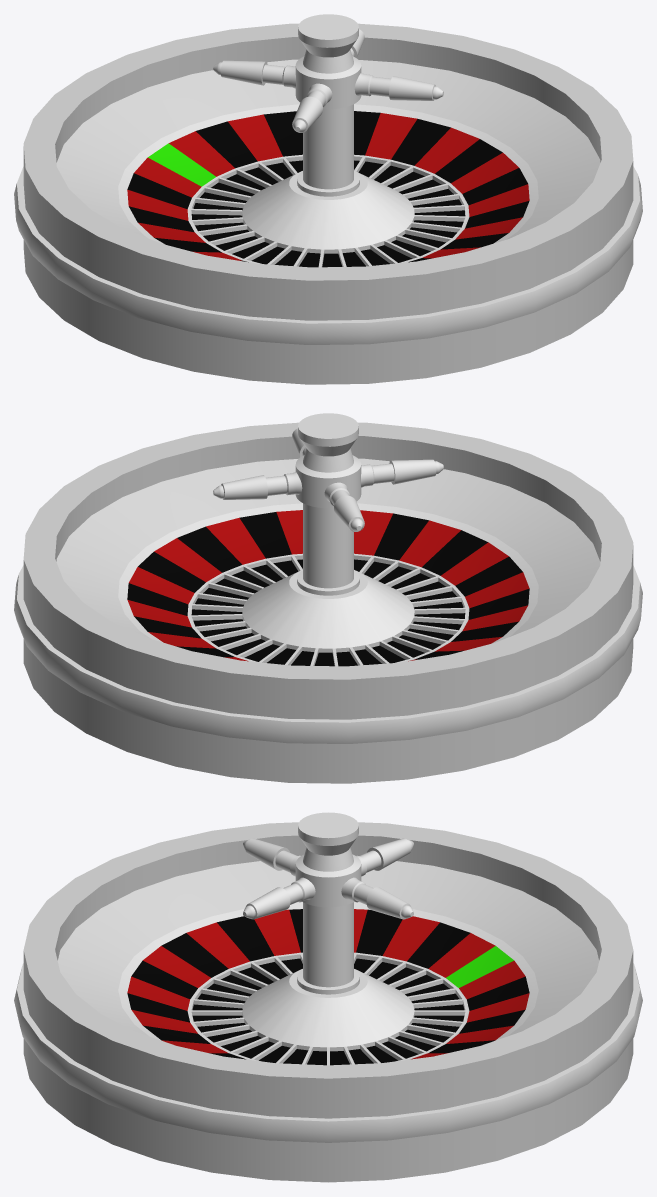
File: Roulette.fbx
The picture shows the model from 3 angles, top to bottom: view 1: azimuth 30°, elevation 25°; view 2: azimuth 150°, elevation 25°; view 3: azimuth 270°, elevation 25°; orthographic projection.
Parts seen in each view (by area): view 1: Cylinder; view 2: Cylinder; view 3: Cylinder.
Boxes of the visible parts, box(x1,y1,x2,y2) form: Cylinder: box(14, 14, 642, 384); Cylinder: box(14, 413, 642, 783); Cylinder: box(14, 812, 642, 1182).
Size of what is drawn, in the model's own units: 0.6832 by 0.2736 by 0.6832.
